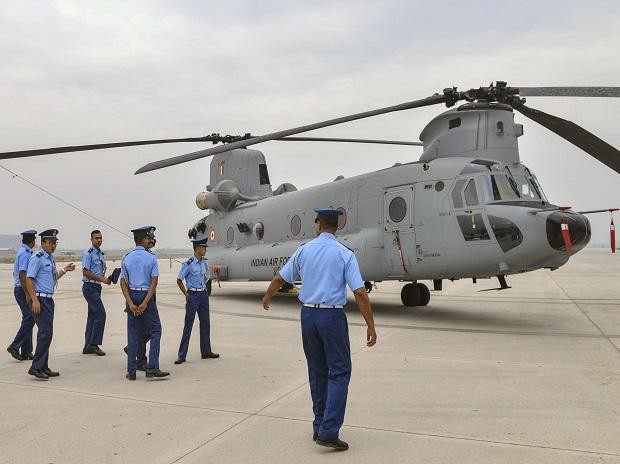chinook: (151, 46, 607, 317)
